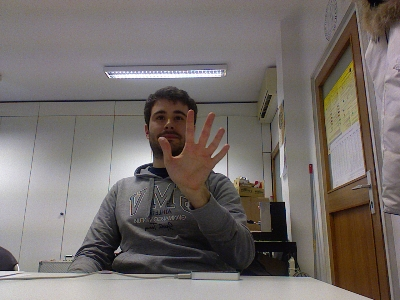布: (156, 108, 229, 191)
